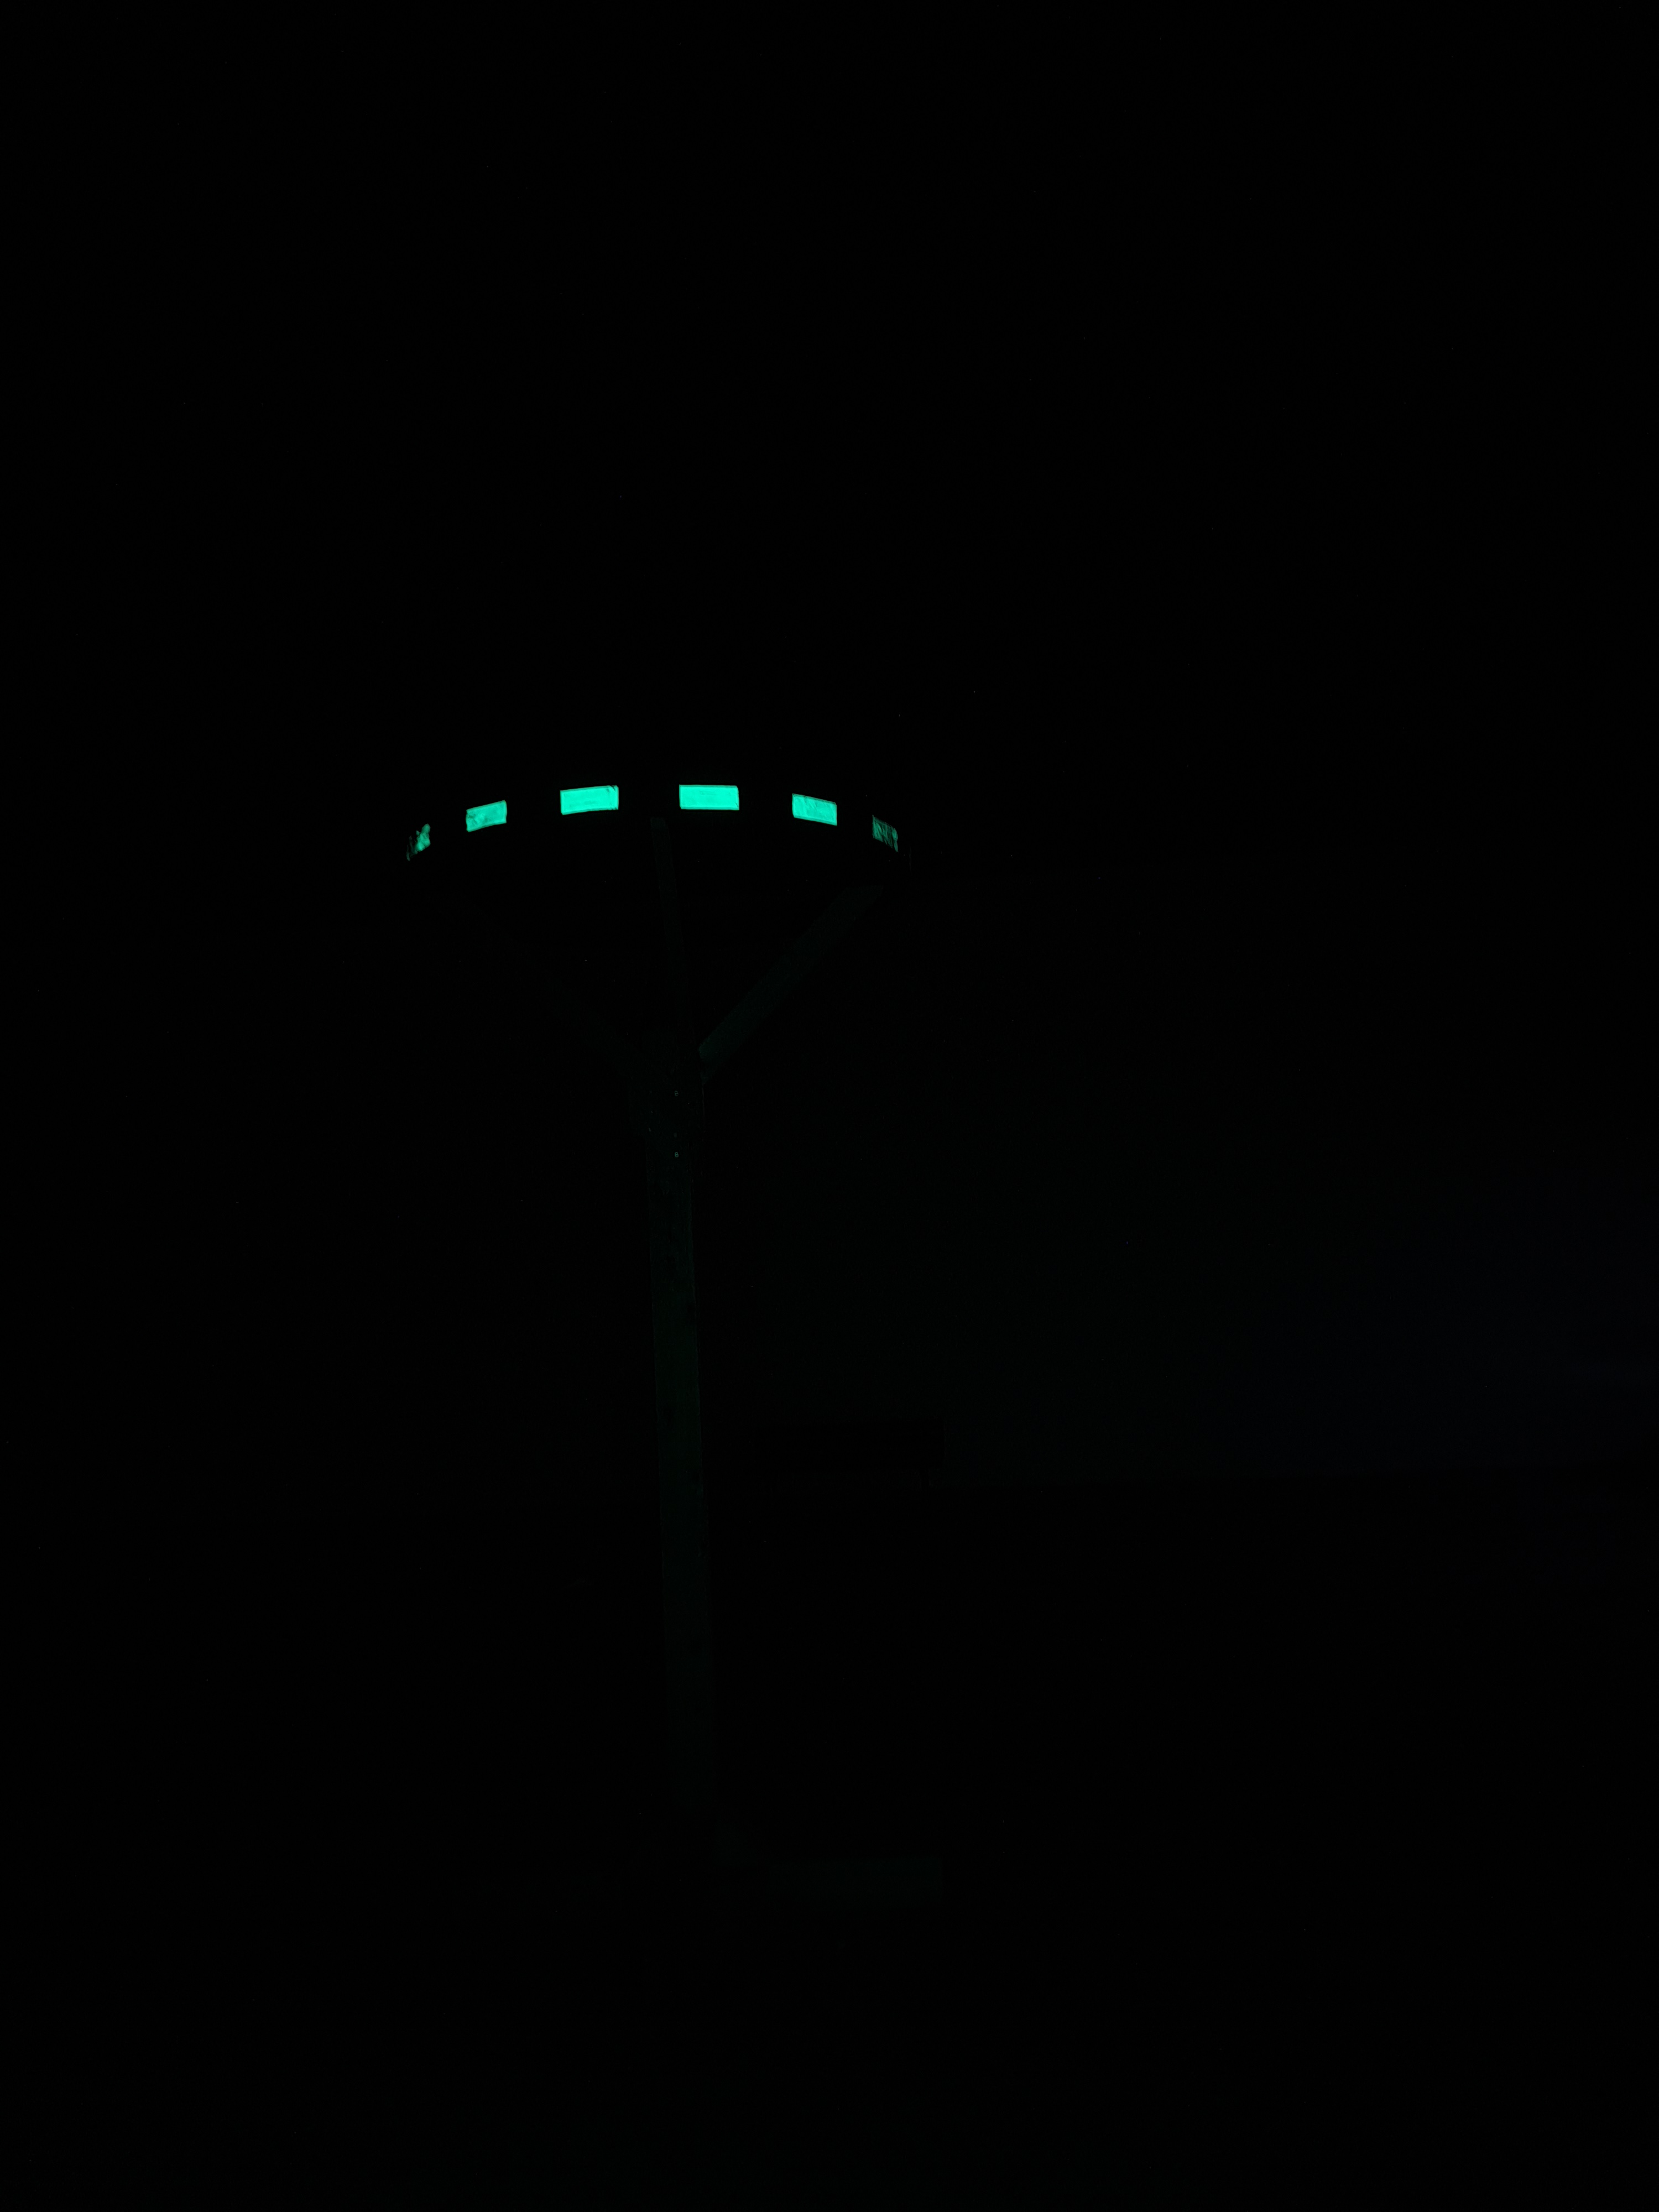hoop: (406, 779, 903, 867)
